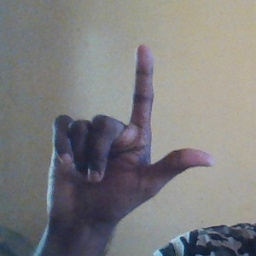L: (47, 44, 214, 220)
